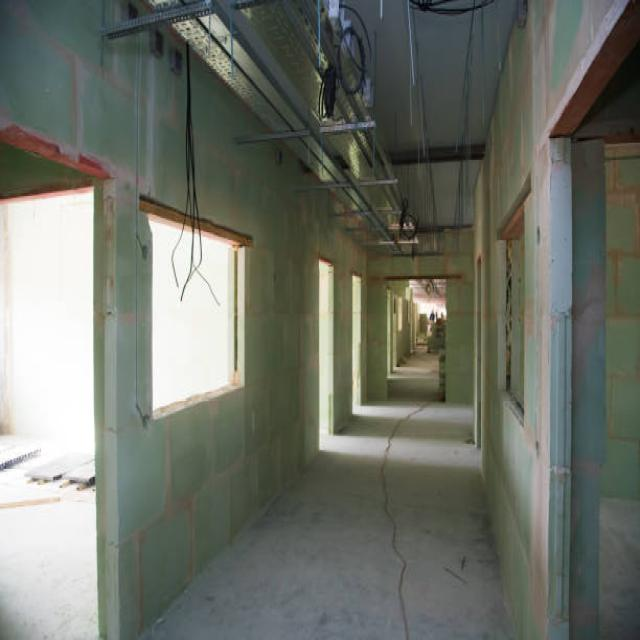floor: (137, 344, 519, 640), (0, 441, 98, 640)
wall: (474, 0, 631, 640), (569, 40, 640, 640), (0, 183, 97, 442), (367, 229, 474, 405), (95, 176, 121, 640), (496, 170, 531, 427), (0, 140, 102, 196), (496, 229, 507, 389)
